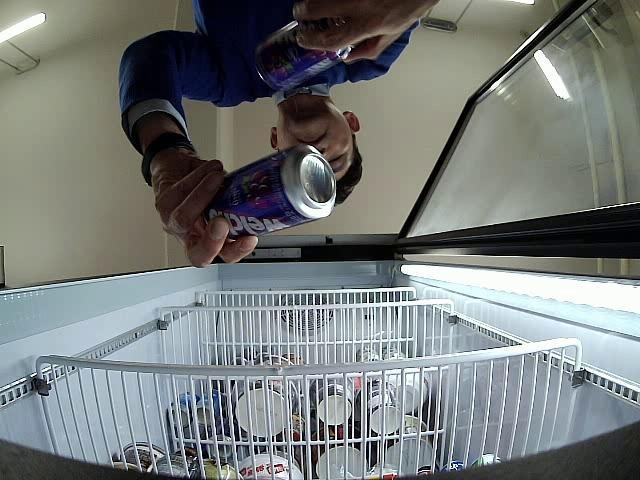14_welchsGrape: (203, 144, 337, 241), (255, 16, 354, 92)
